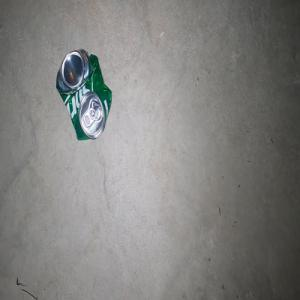SodaCan: (55, 48, 111, 140)
